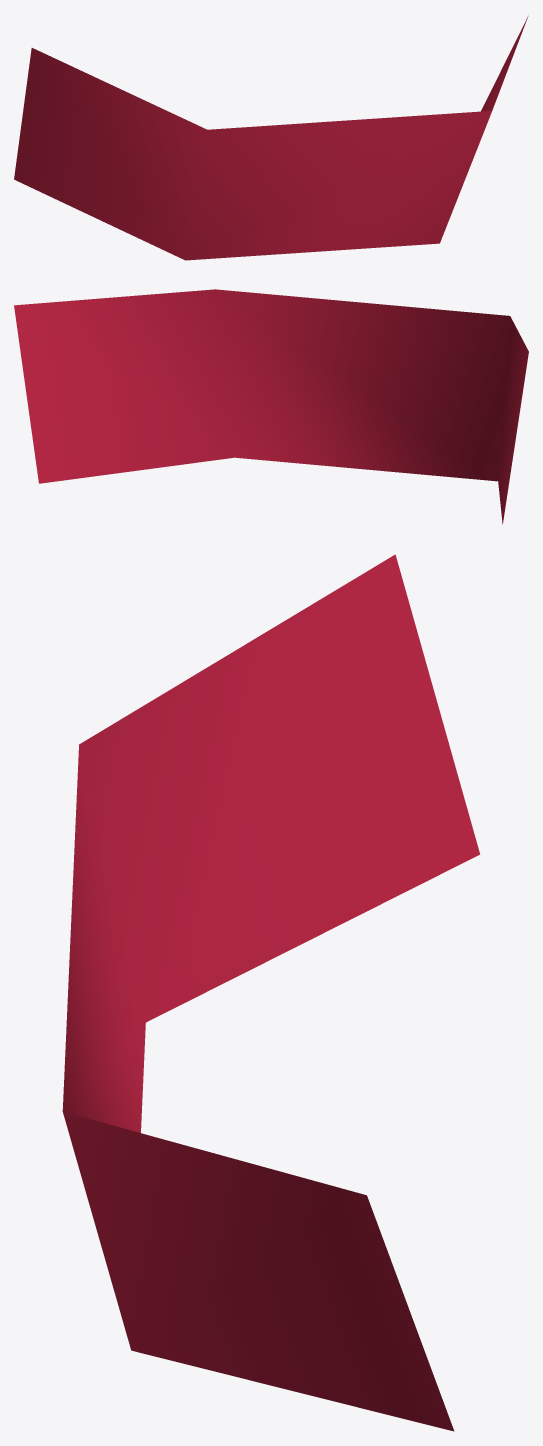
3 renders of one model, top to bottom at view 1: azimuth 30°, elevation 25°; view 2: azimuth 150°, elevation 25°; view 3: azimuth 270°, elevation 25°, orthographic. The views are drawn at different scales.
Visible parts, largest first — view 1: ef_440; view 2: ef_440; view 3: ef_440.
Boxes of the visible parts, x1=… form: ef_440: x1=14, y1=16, x2=528, y2=260; ef_440: x1=14, y1=289, x2=528, y2=524; ef_440: x1=62, y1=554, x2=480, y2=1431.
Size of the model in its own units: 1.02 by 0.4583 by 0.375.
Materials: 1 (1 with a texture image).
